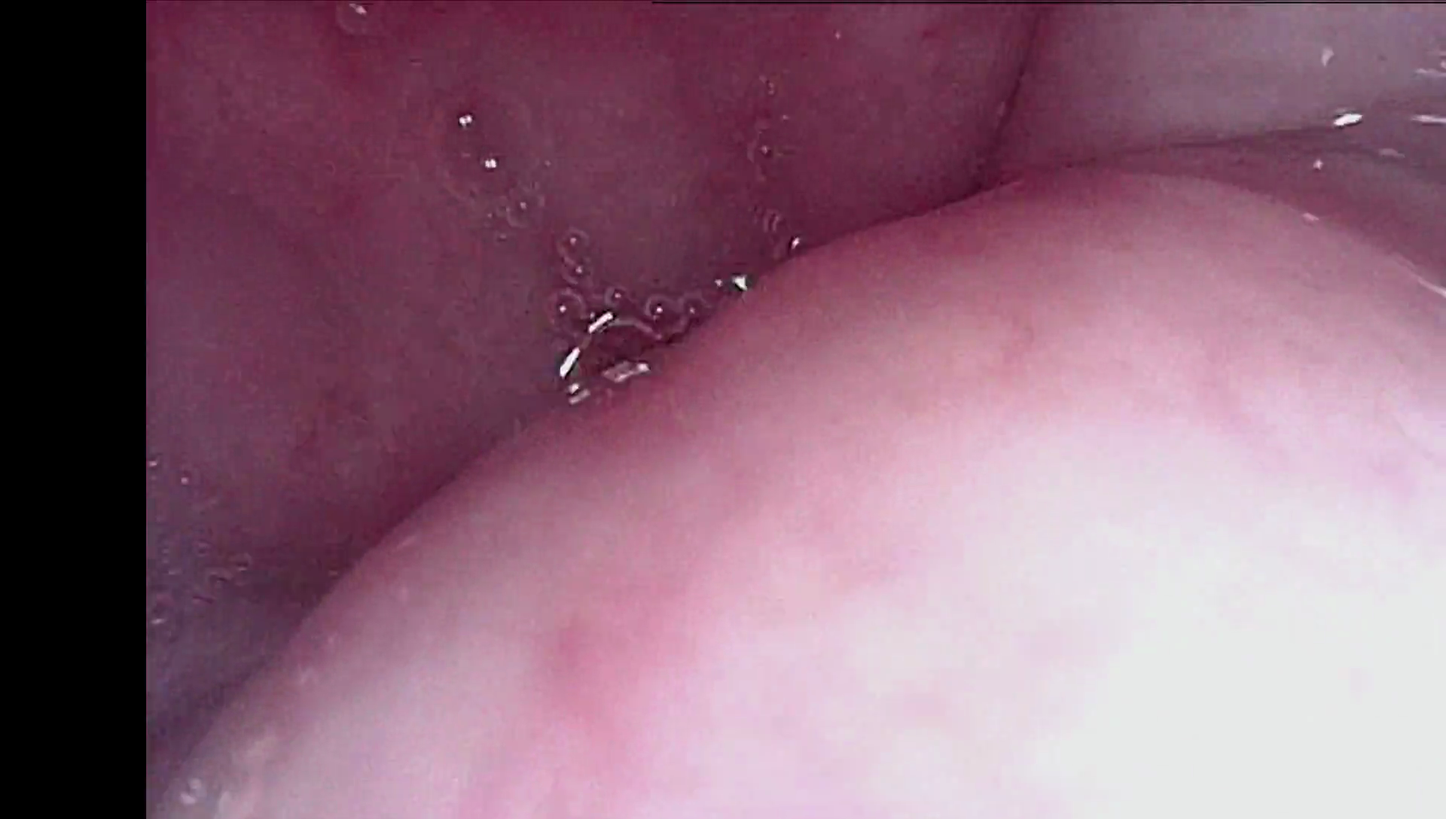close_wall: (238, 206, 1446, 819)
